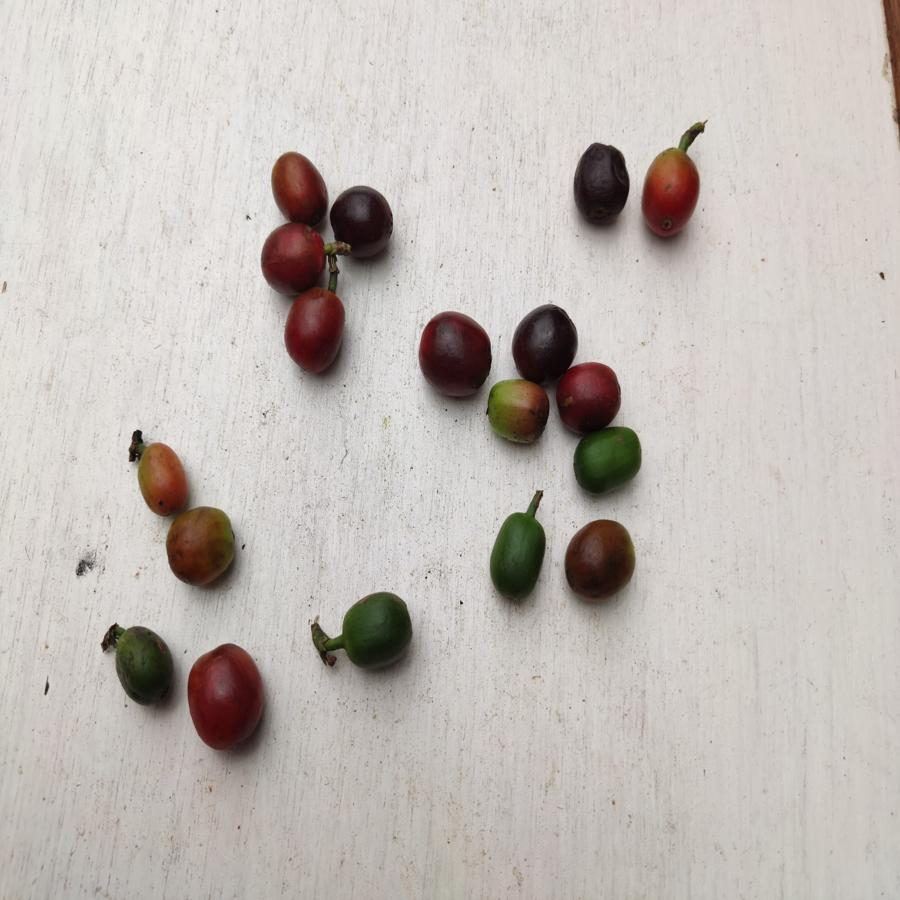Inmaduro: (336, 593, 416, 670), (110, 621, 177, 711), (484, 511, 548, 601), (574, 425, 644, 493)
Maduro: (185, 638, 273, 759), (255, 219, 328, 299), (283, 286, 346, 375), (272, 149, 327, 228)
Pinton: (636, 145, 701, 241), (165, 508, 242, 588), (483, 375, 547, 449), (129, 443, 195, 508)
Sobremaduro: (414, 308, 492, 400), (562, 519, 640, 606), (509, 299, 579, 384), (329, 184, 398, 261), (553, 362, 625, 429), (573, 143, 628, 224)
